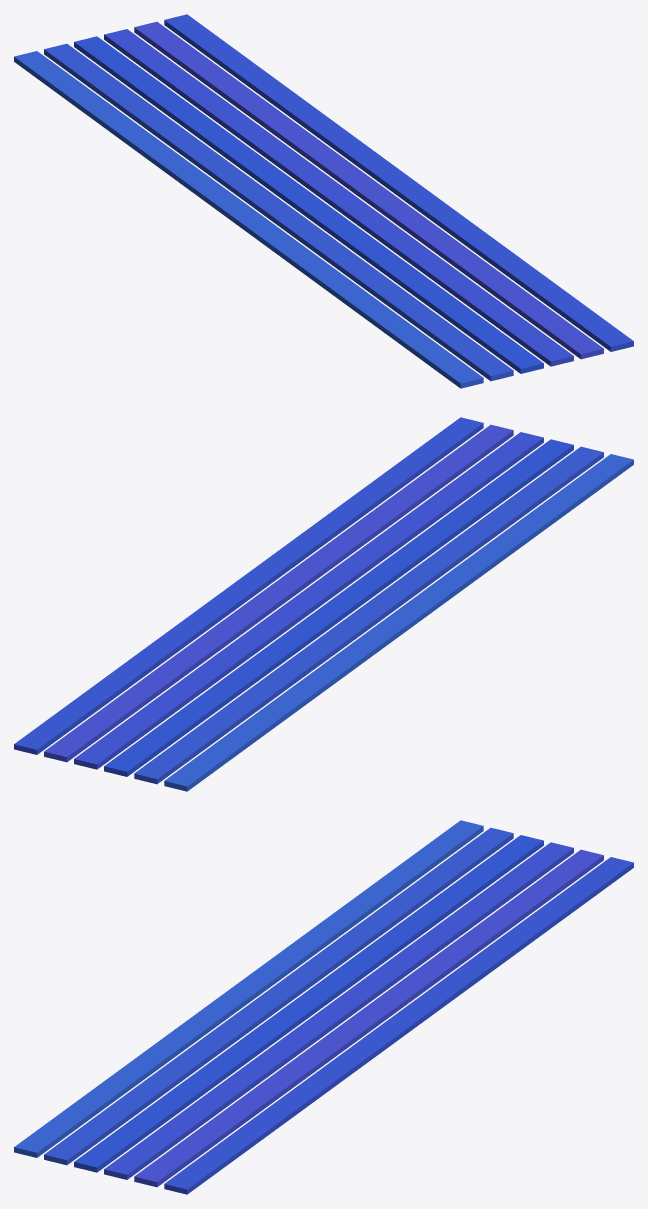
File: ridgeall.dae
The picture shows the model from 3 angles, top to bottom: view 1: azimuth 30°, elevation 25°; view 2: azimuth 150°, elevation 25°; view 3: azimuth 330°, elevation 25°; orthographic projection.
Parts seen in each view (by area): view 1: 立方体.004, 立方体.003, 立方体.005, 立方体.002, 立方体.001, 立方体; view 2: 立方体.004, 立方体.003, 立方体.005, 立方体.002, 立方体.001, 立方体; view 3: 立方体.004, 立方体.003, 立方体.005, 立方体.002, 立方体.001, 立方体.
Part boxes in pixels (x1,y1,x2,y2): 立方体.004: (104, 29, 573, 366); 立方体.003: (74, 36, 543, 373); 立方体.005: (164, 14, 633, 351); 立方体.002: (44, 43, 513, 381); 立方体.001: (14, 51, 483, 388); 立方体: (134, 21, 603, 359); 立方体.004: (74, 432, 543, 769); 立方体.003: (104, 439, 573, 776); 立方体.005: (14, 417, 483, 754); 立方体.002: (134, 446, 603, 784); 立方体.001: (164, 454, 633, 791); 立方体: (44, 424, 513, 762); 立方体.004: (104, 842, 573, 1179); 立方体.003: (74, 835, 543, 1172); 立方体.005: (164, 857, 633, 1194); 立方体.002: (44, 827, 513, 1165); 立方体.001: (14, 820, 483, 1157); 立方体: (134, 849, 603, 1187).
Size of the model in its own units: 10.53 by 47 by 0.3.
